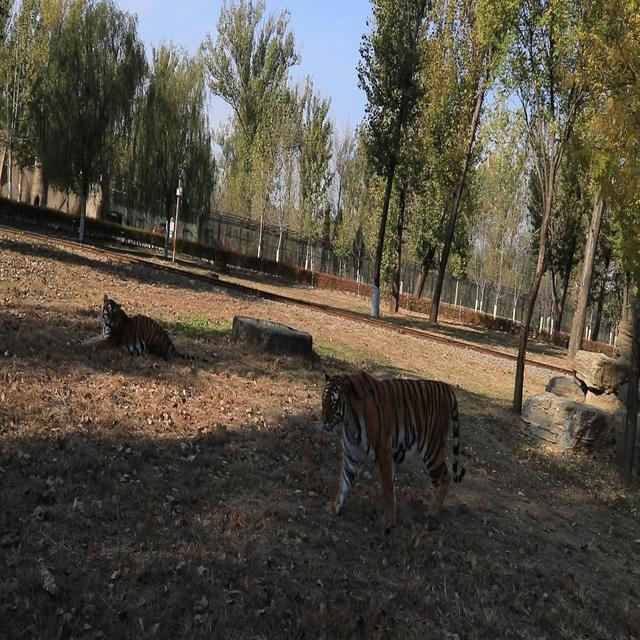tiger: (319, 367, 465, 536), (84, 293, 205, 363)
